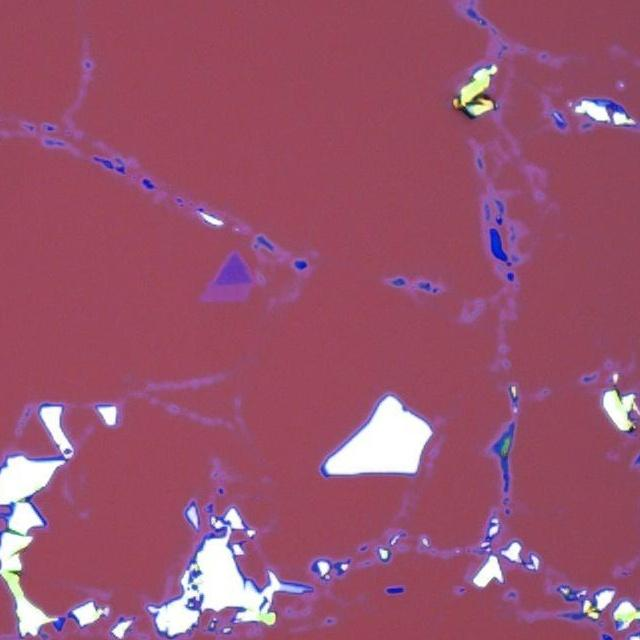monolayer-eWW4: (201, 284, 249, 304)
